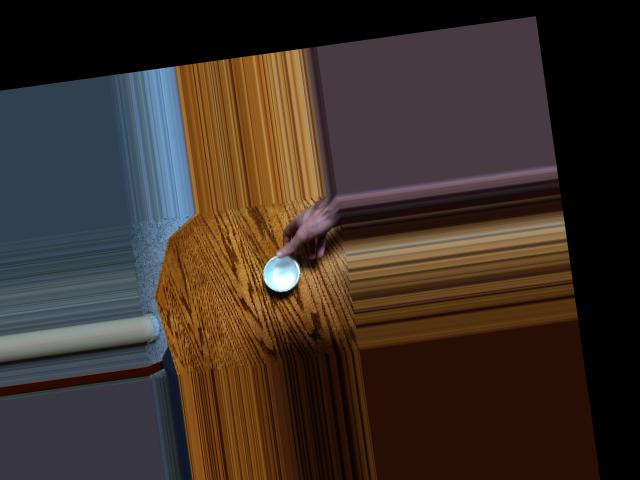cotage: (255, 245, 307, 297)
